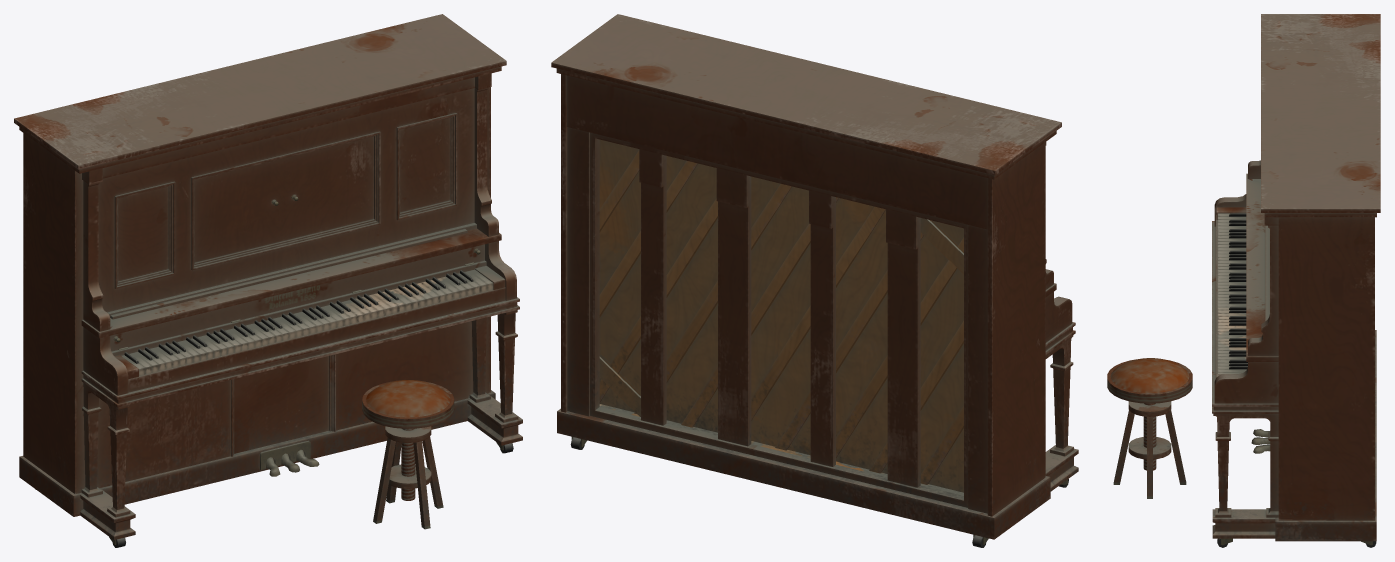
The model's file is dusty_piano.glb.
3 views of the same model, side by side, from view 1: azimuth 30°, elevation 25°; view 2: azimuth 150°, elevation 25°; view 3: azimuth 270°, elevation 25° (orthographic). The views are drawn at different scales.
Parts seen in each view (by area): view 1: LP_Piano, LP_Stool_MAT_Piano_0; view 2: LP_Piano; view 3: LP_Piano, LP_Stool_MAT_Piano_0.
Part boxes in pixels (x1,y1,x2,y2): LP_Piano: (14, 14, 522, 547); LP_Stool_MAT_Piano_0: (362, 380, 454, 529); LP_Piano: (551, 14, 1078, 547); LP_Piano: (1212, 14, 1380, 547); LP_Stool_MAT_Piano_0: (1107, 358, 1192, 498).
Bounding box in the file's own units: 0.6518 × 0.5399 × 0.3861.
1 material, 1 textured.
